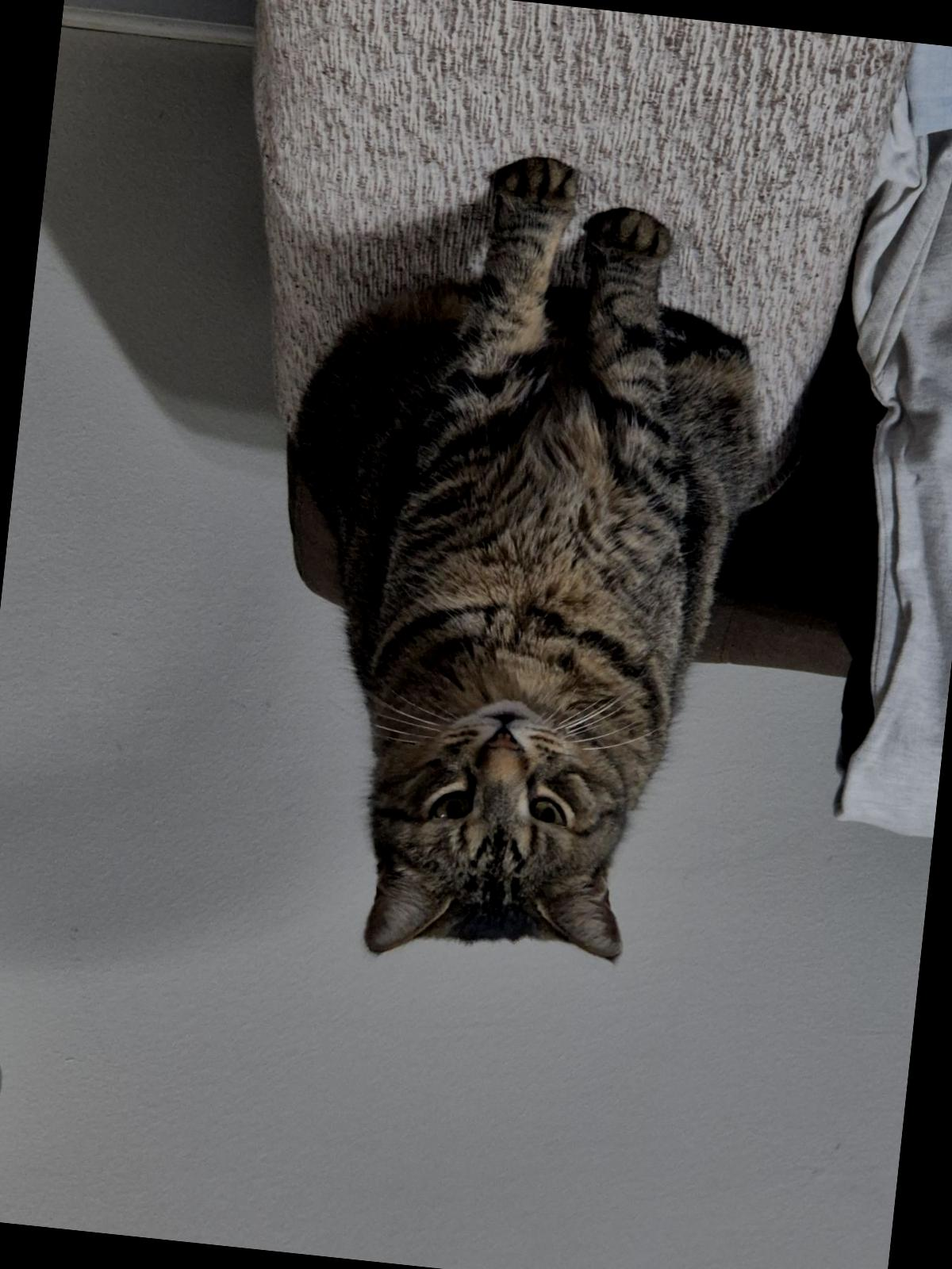macka: (236, 131, 783, 989)
